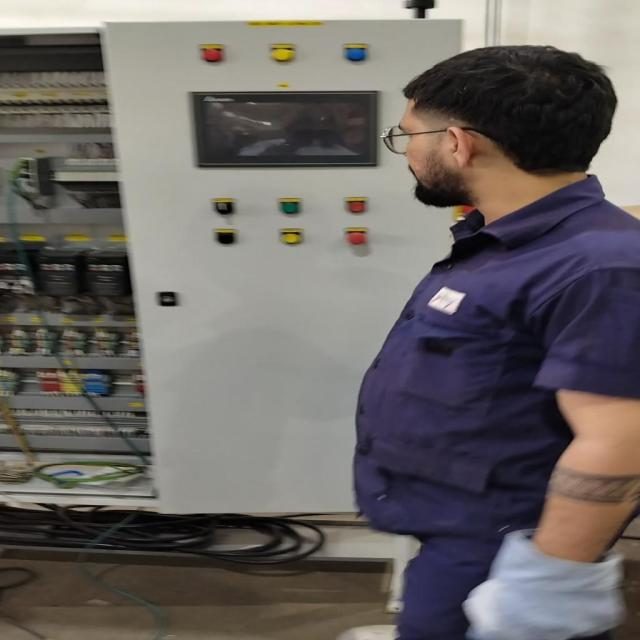Gloves-Detection: (441, 531, 640, 640)
